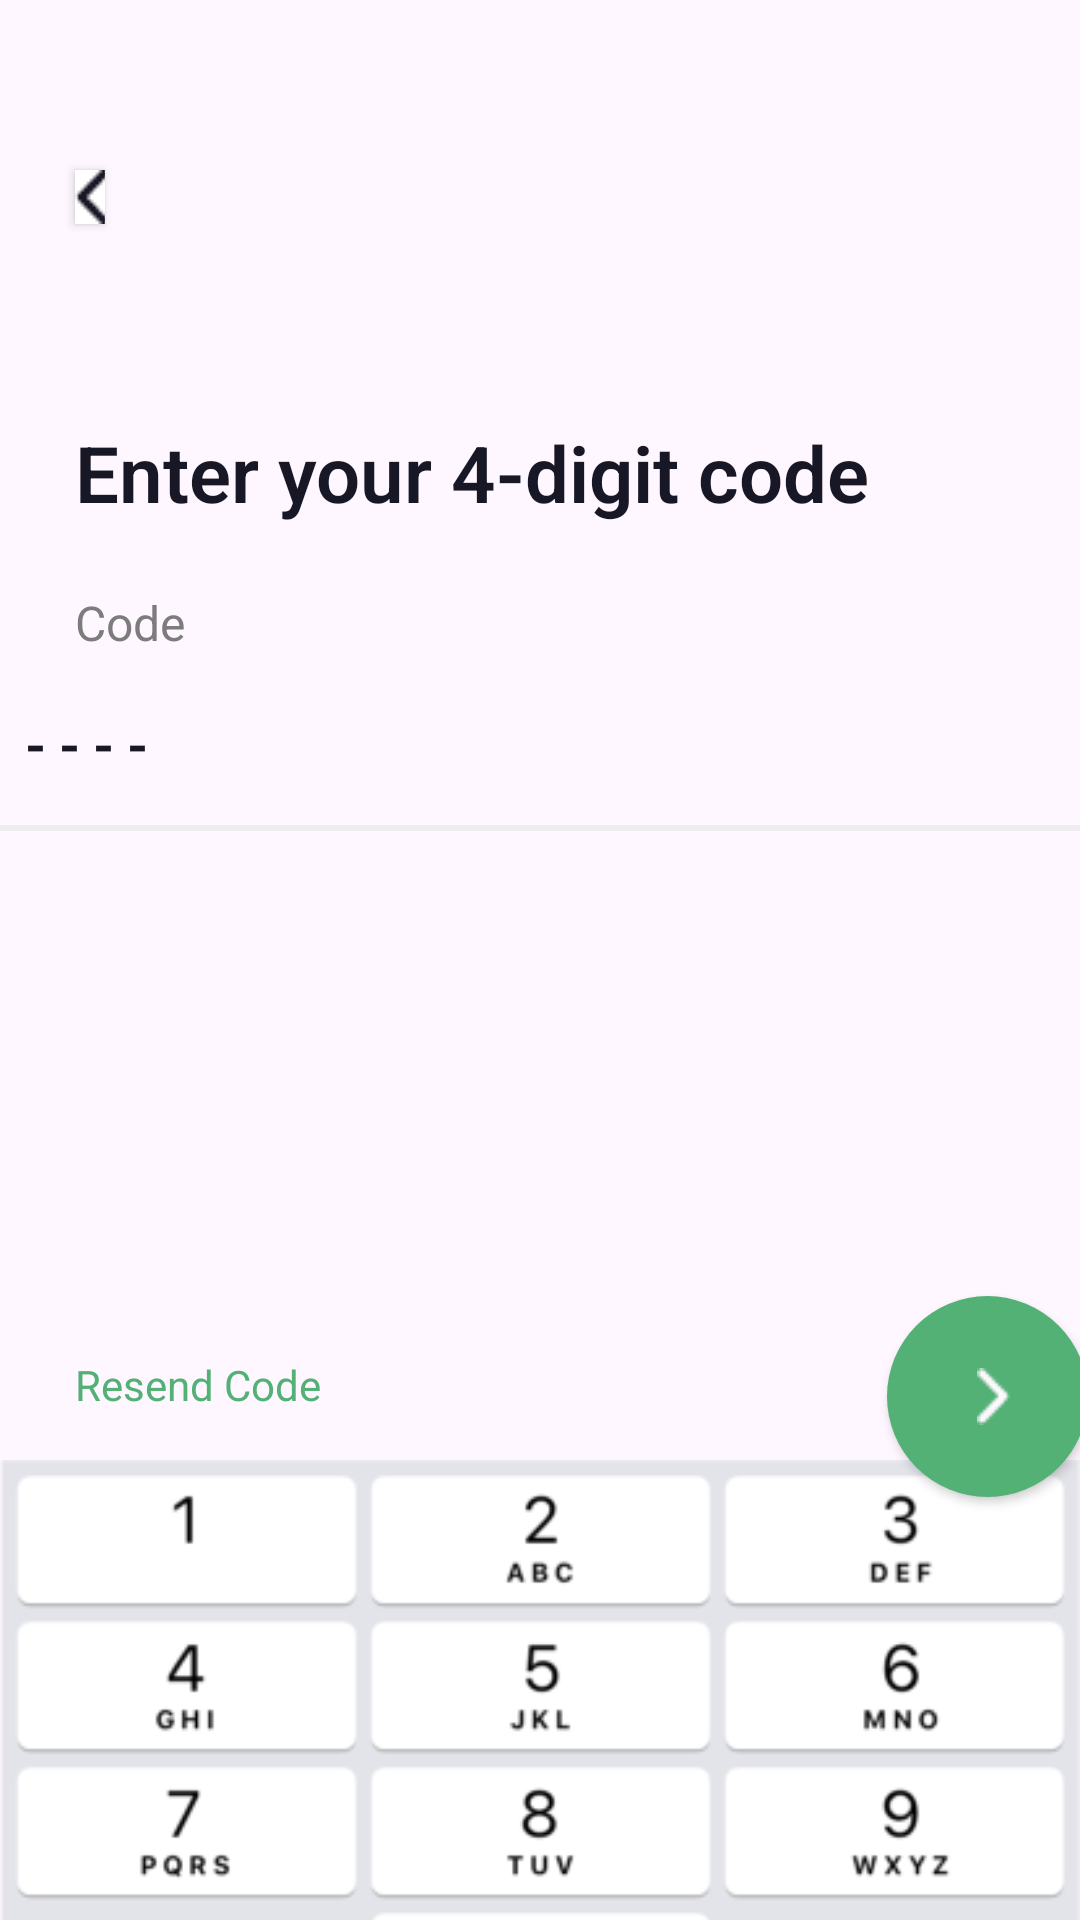

Where to tap for icons on this 1080px×1920px app screen, as (x=x, y=y):
nextroundbtn: (x=983, y=1396)
